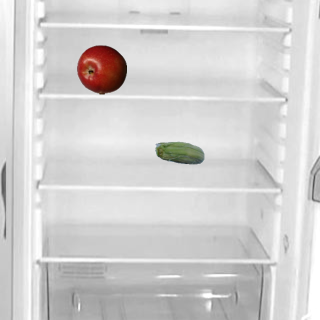Apple Braeburn: (76, 44, 126, 94)
Corn Husk: (154, 129, 204, 179)
